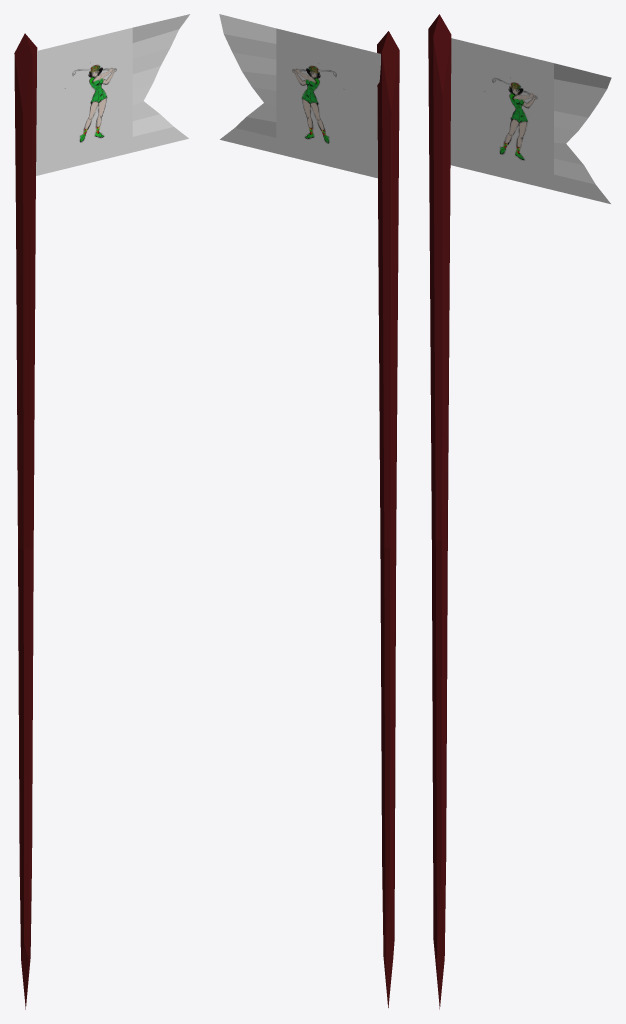
File: flag_0_3 1.fbx
The picture shows the model from 3 angles, left to right: view 1: azimuth 30°, elevation 25°; view 2: azimuth 150°, elevation 25°; view 3: azimuth 330°, elevation 25°; orthographic projection.
Visible parts, largest first — view 1: Plane; view 2: Plane; view 3: Plane.
Boxes of the visible parts, x1=… form: Plane: x1=14, y1=14, x2=189, y2=1009; Plane: x1=219, y1=14, x2=399, y2=1007; Plane: x1=428, y1=14, x2=611, y2=1009.
Bounding box in the file's own units: 0.6862 × 0.0875 × 3.6.
2 materials, 1 textured.
